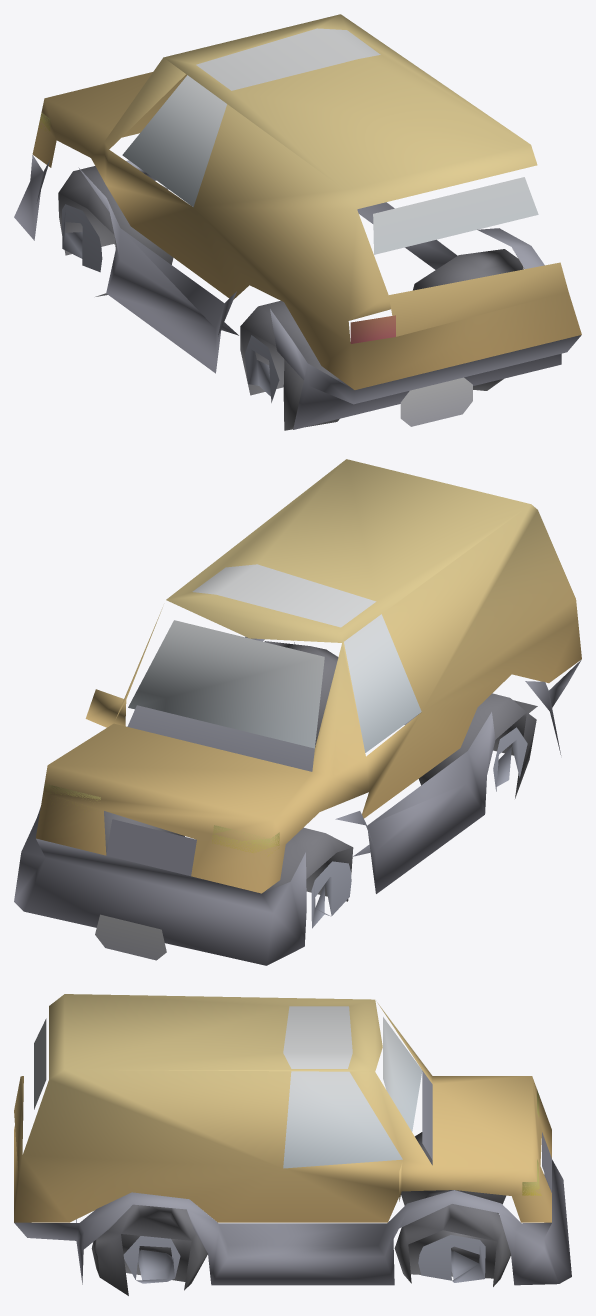
The model's file is car_suv-luxury_lod1.glb.
The picture shows the model from 3 angles, top to bottom: view 1: azimuth 30°, elevation 25°; view 2: azimuth 150°, elevation 25°; view 3: azimuth 270°, elevation 25°; orthographic projection. The views are drawn at different scales.
Bounding box in the file's own units: 2.1 × 1.93 × 4.28.
